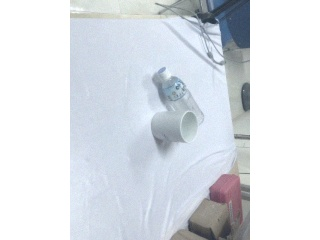bottle: (155, 67, 205, 125)
box: (189, 199, 230, 240)
cup: (151, 110, 198, 144)
